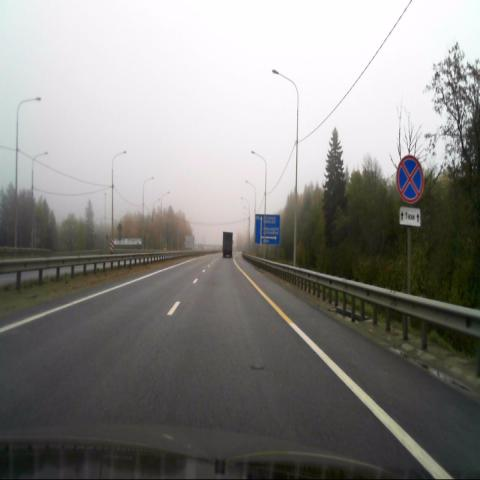8_2_1: (400, 207, 421, 225)
